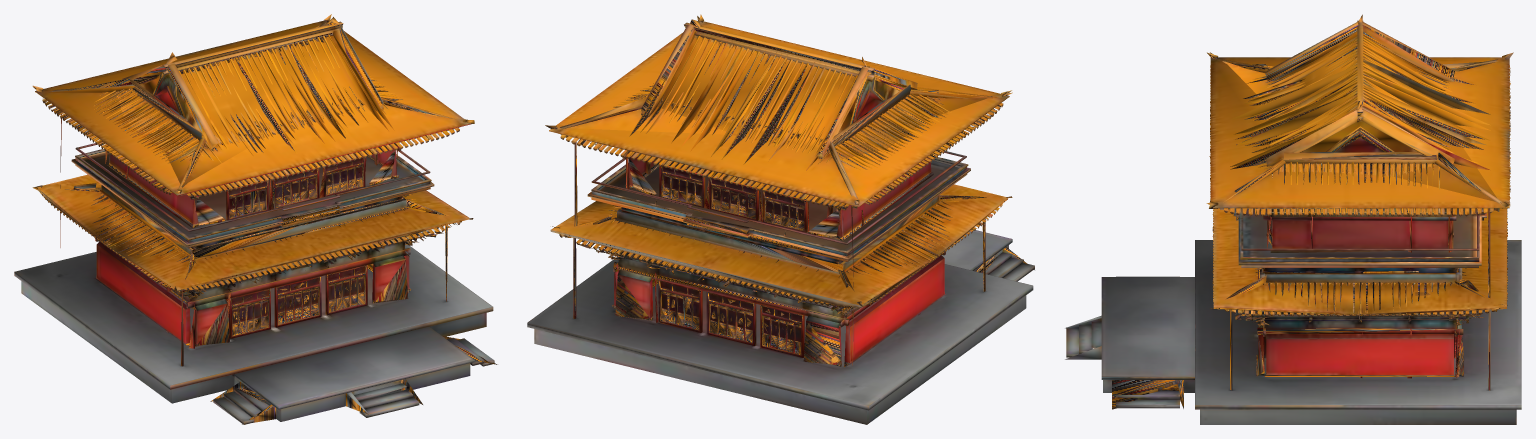
Rendered from bq_drum_tower.glb.
The picture shows the model from 3 angles, left to right: view 1: azimuth 30°, elevation 25°; view 2: azimuth 150°, elevation 25°; view 3: azimuth 270°, elevation 25°; orthographic projection. The views are drawn at different scales.
Bounding box in the file's own units: 1.71 × 1.4 × 2.
Materials: 1 (1 with a texture image).
